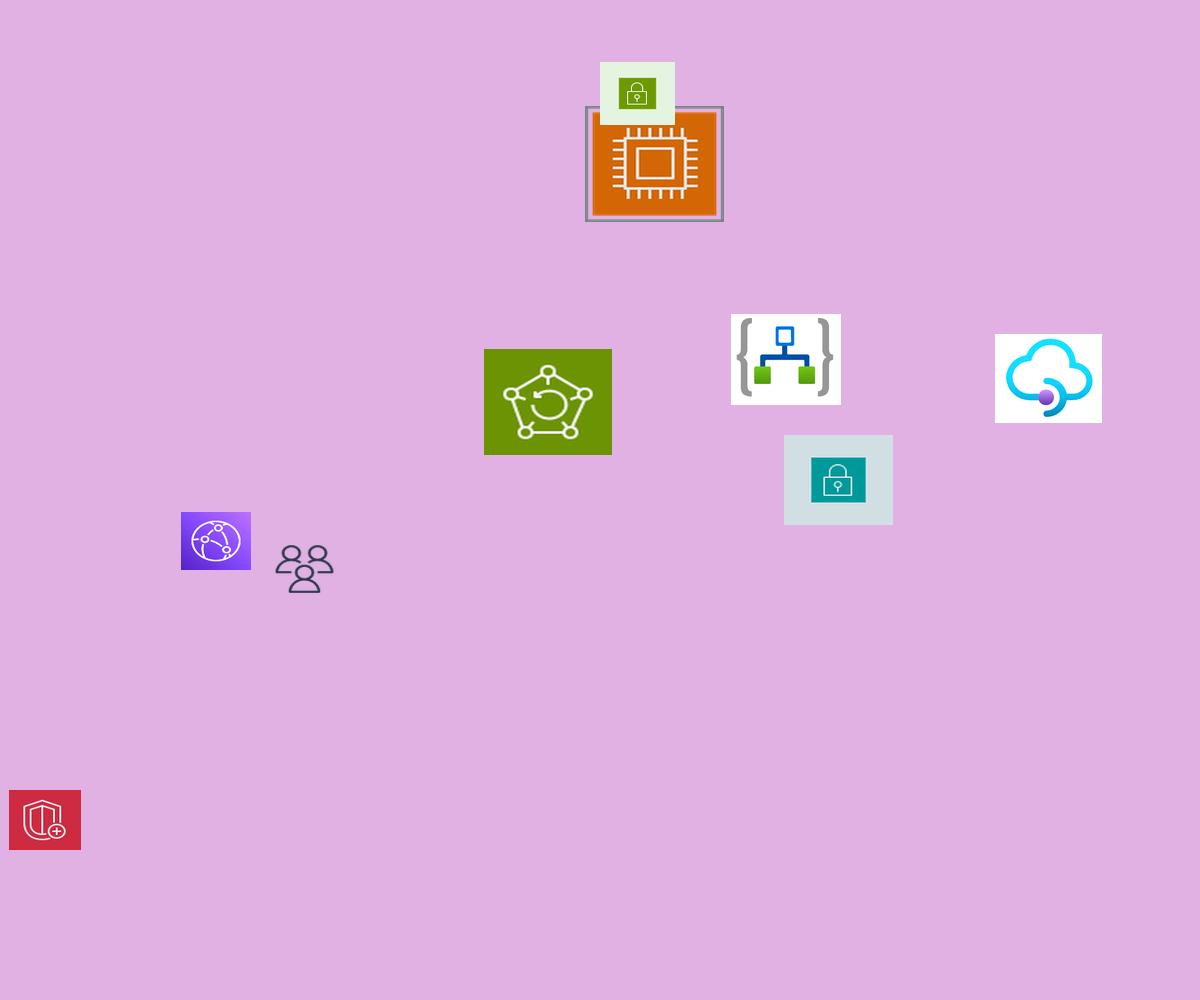AWS-Backup: (484, 349, 612, 455)
AWS-Category_Compute: (585, 106, 724, 222)
AWS-CloudFront: (181, 512, 251, 570)
AWS-Private-subnet: (784, 435, 893, 525)
AWS-Public-subnet: (600, 62, 675, 125)
AWS-Res_Users: (273, 543, 336, 595)
AWS-Shield: (9, 790, 81, 850)
Azure_api_gateway: (995, 334, 1102, 423)
Azure_integration-204-Logic-Apps: (731, 314, 841, 405)
